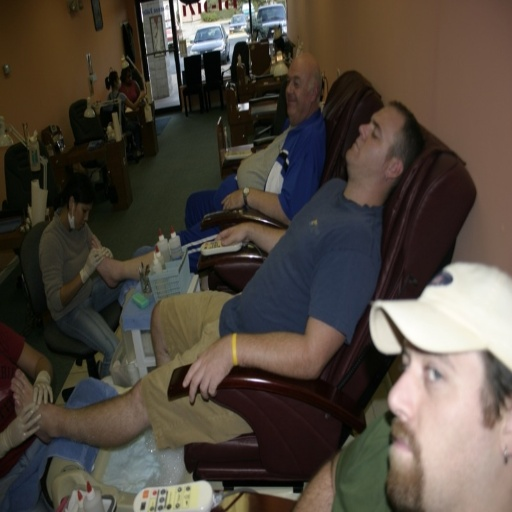hand: (187, 342, 234, 409), (4, 400, 42, 449), (213, 221, 252, 247), (220, 184, 246, 212), (32, 378, 54, 409), (84, 247, 103, 275), (97, 244, 113, 259)
